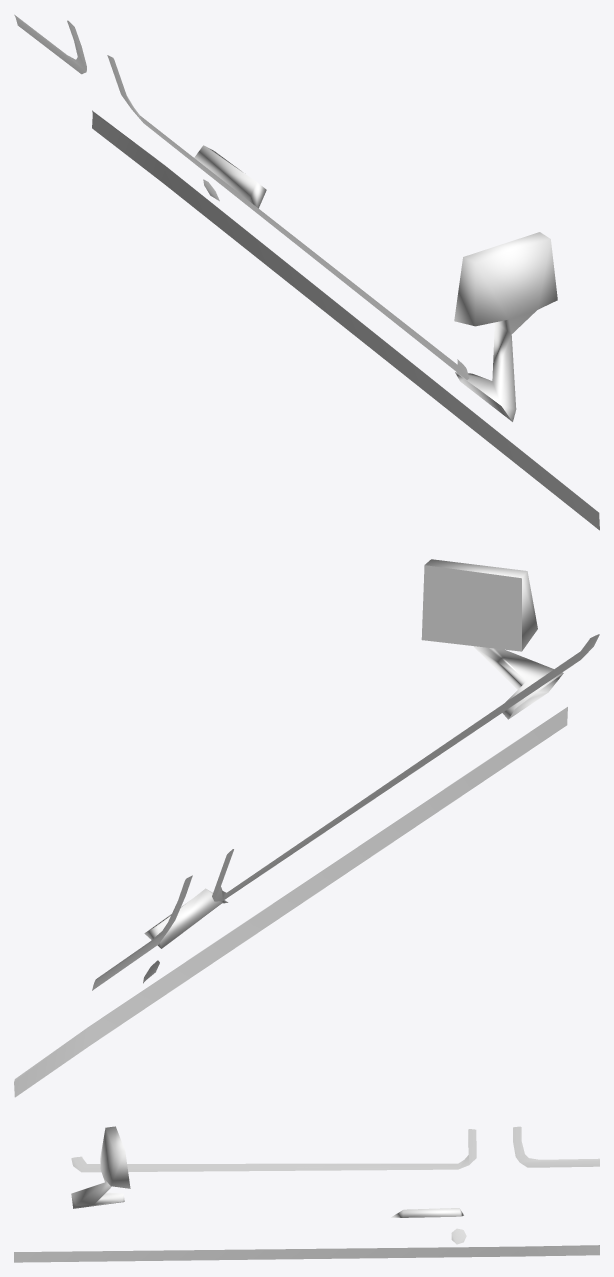
3 views of the same model, one above another, from view 1: azimuth 30°, elevation 25°; view 2: azimuth 150°, elevation 25°; view 3: azimuth 270°, elevation 25° (orthographic). The views are drawn at different scales.
Size of the model in its own units: 0.1472 by 0.2439 by 1.05.
Materials: 1 (1 with a texture image).
